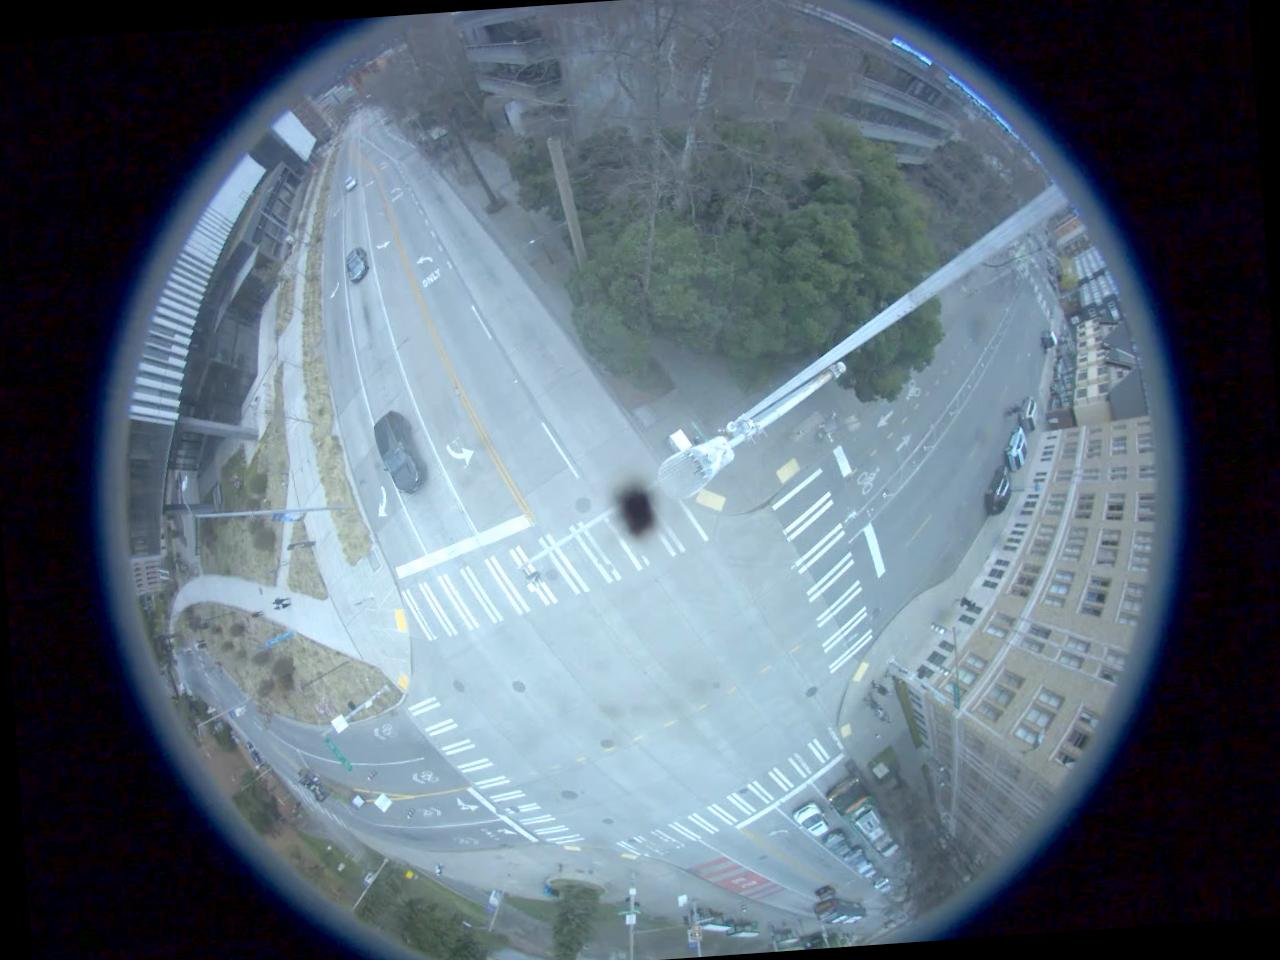bus: (828, 775, 898, 858), (813, 900, 867, 926)
car: (371, 406, 427, 496), (976, 464, 1016, 520), (792, 800, 832, 838), (1003, 426, 1033, 474), (344, 246, 369, 286), (1018, 396, 1040, 434), (822, 829, 851, 855), (839, 847, 870, 868), (811, 880, 836, 904), (855, 860, 874, 880)
person: (868, 676, 893, 700), (882, 666, 905, 688), (864, 695, 882, 718), (958, 594, 978, 614), (878, 704, 894, 726), (268, 594, 290, 606), (270, 603, 292, 613), (248, 608, 265, 619)
